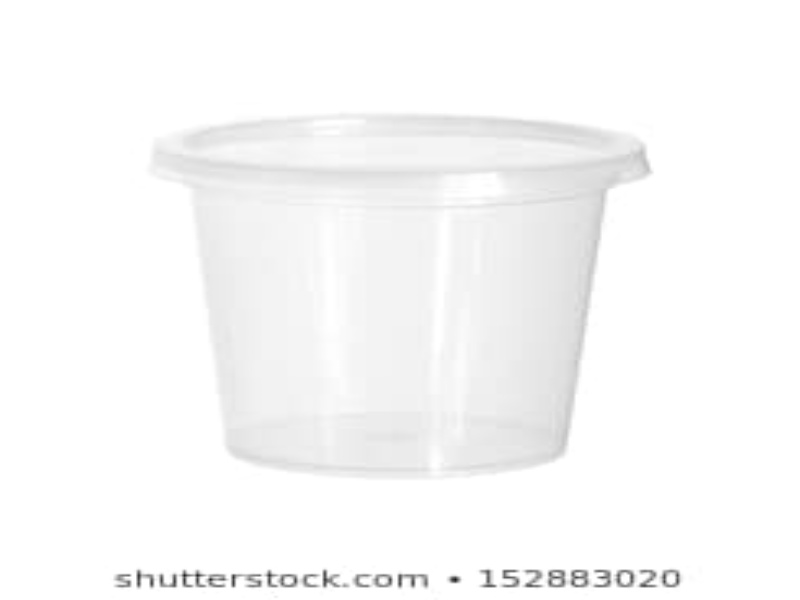plastic-container: (142, 102, 660, 487)
